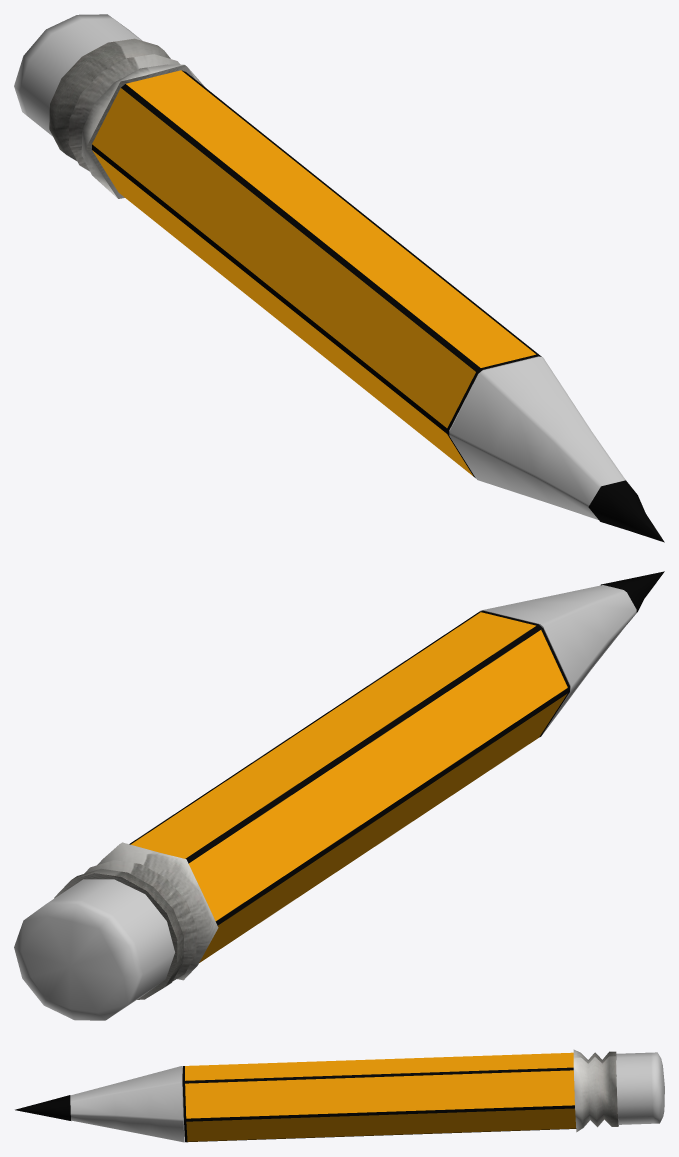
File: pencil.FBX
The picture shows the model from 3 angles, top to bottom: view 1: azimuth 30°, elevation 25°; view 2: azimuth 150°, elevation 25°; view 3: azimuth 270°, elevation 25°; orthographic projection. The views are drawn at different scales.
Visible parts, largest first — view 1: Cylinder001, Cone001, Cylinder006, tae, Cylinder003, Cone002; view 2: Cylinder001, Cylinder003, Cylinder006, Cone001, tae, Cone002; view 3: Cylinder001, Cone001, Cylinder003, tae, Cylinder006, Cone002.
Boxes of the visible parts, x1,y1,x2,y2 form: Cylinder001: [92, 70, 538, 477]; Cone001: [449, 356, 634, 519]; Cylinder006: [49, 38, 205, 198]; tae: [92, 70, 541, 477]; Cylinder003: [14, 14, 142, 136]; Cone002: [588, 480, 664, 542]; Cylinder001: [131, 612, 567, 962]; Cylinder003: [14, 879, 174, 1020]; Cylinder006: [54, 842, 218, 999]; Cone001: [479, 585, 636, 736]; tae: [129, 610, 569, 925]; Cone002: [600, 571, 664, 612]; Cylinder001: [185, 1052, 576, 1141]; Cone001: [70, 1066, 184, 1142]; Cylinder003: [616, 1052, 664, 1124]; tae: [182, 1066, 575, 1142]; Cylinder006: [573, 1049, 618, 1132]; Cone002: [15, 1095, 70, 1120].
Size of the model in its own units: 6.4 by 6.69 by 49.95.
